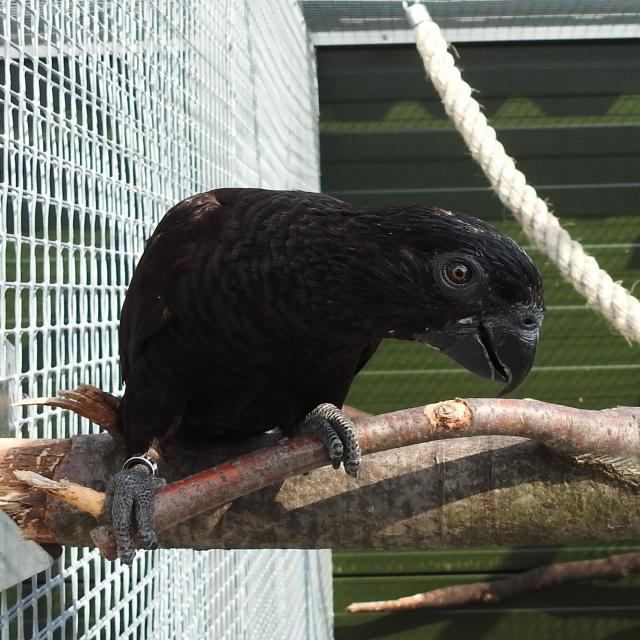Nuri Hitam: (50, 172, 552, 570)
